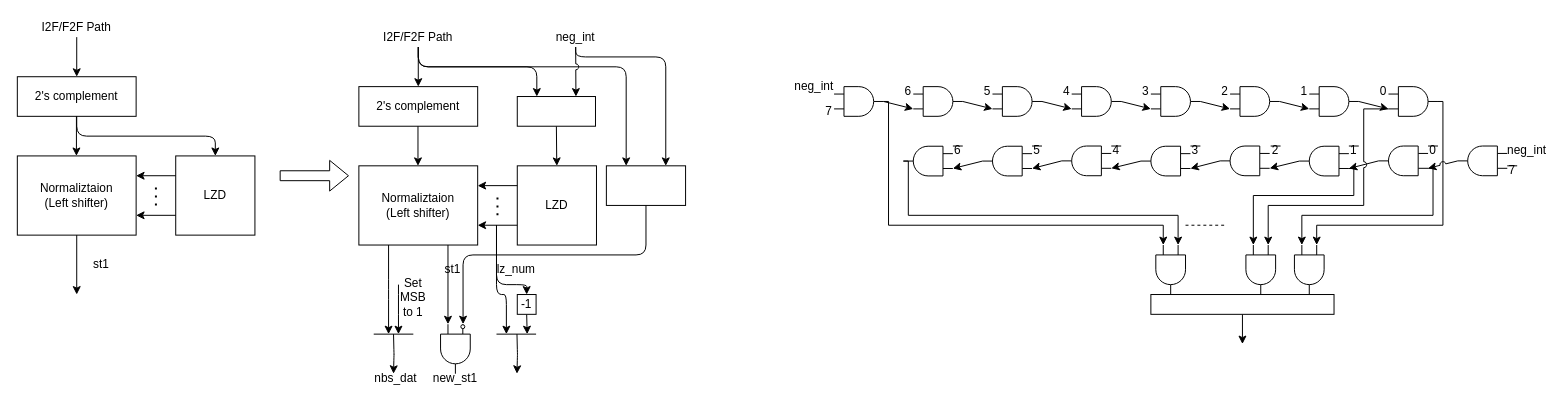
This 1564x402 diagram has some shape labels left out. Each missing label, with the centre of its shape:
"Bit pattern detection" belongs at (x=645, y=185).
"OR" belongs at (x=1242, y=304).
"XOR" belongs at (x=555, y=111).
